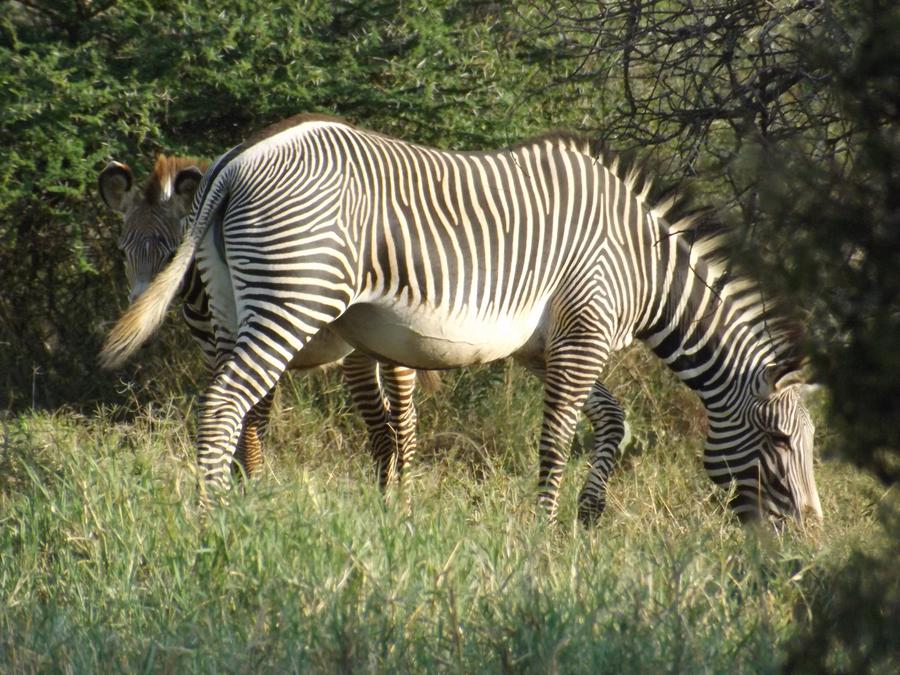zebra_grevys: (201, 104, 615, 360)
